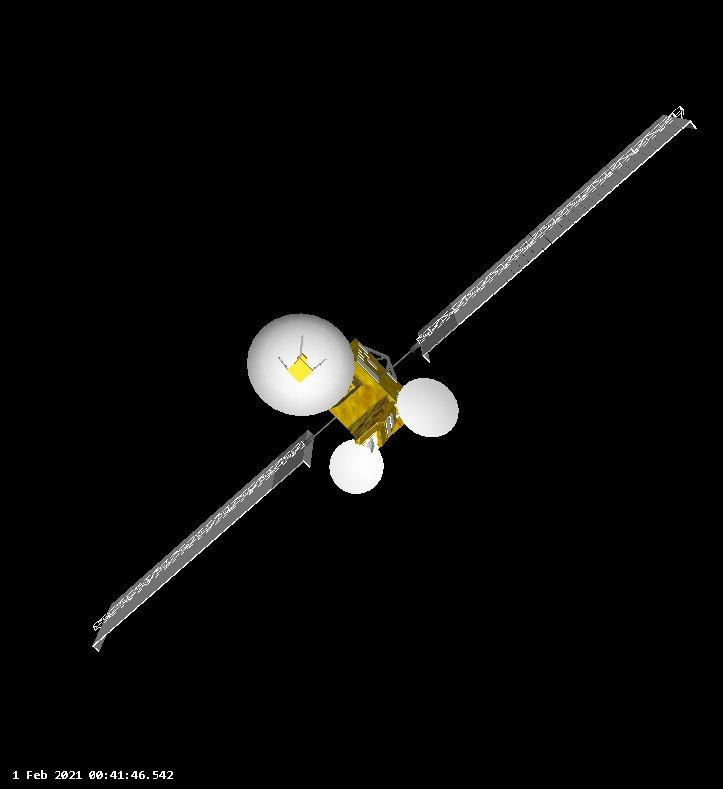antenna: (244, 310, 357, 419), (392, 375, 462, 440), (327, 437, 386, 497)
body: (327, 335, 412, 451)
solar: (415, 103, 703, 368), (89, 428, 317, 655)
